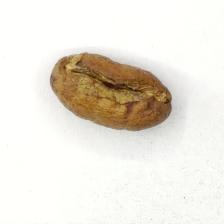NG: (57, 53, 167, 115)
